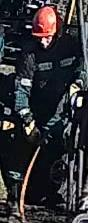gloves: (19, 111, 43, 147)
helmet: (30, 5, 59, 37)
vest: (14, 39, 84, 123)
